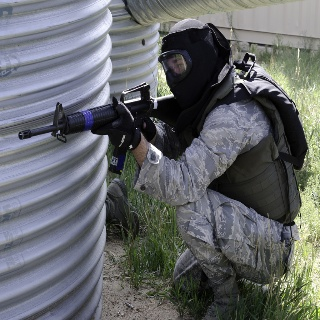rifle: (18, 80, 179, 175)
